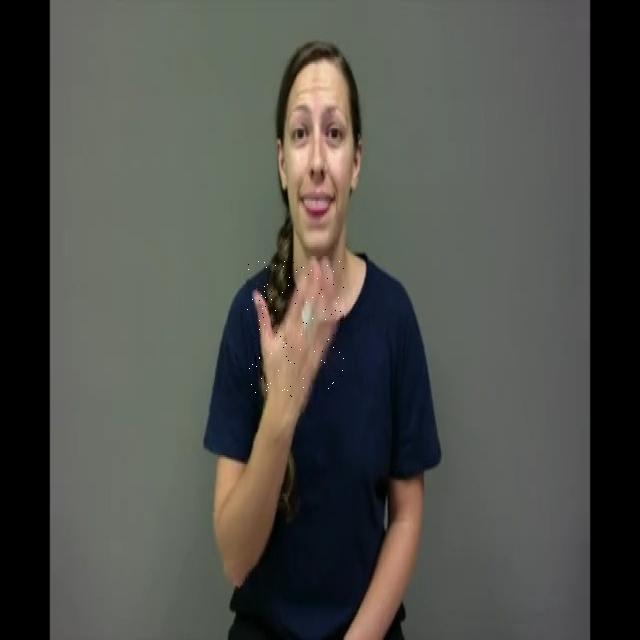thank-you: (246, 262, 344, 399)
